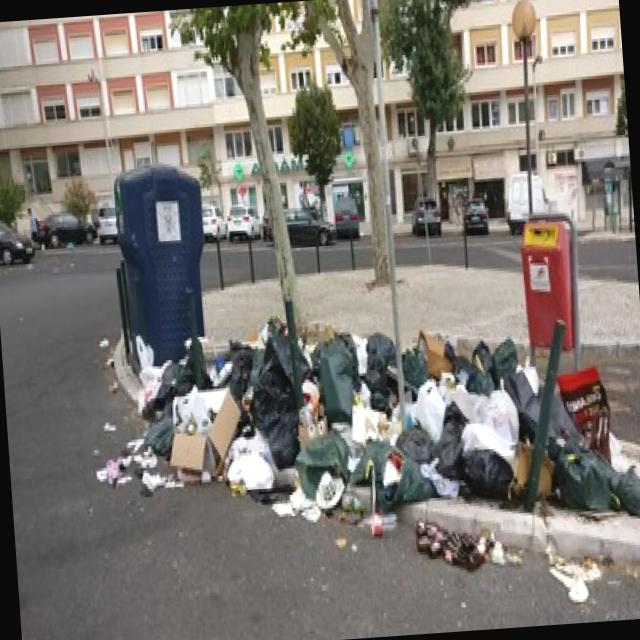garbage: (80, 275, 640, 600)
